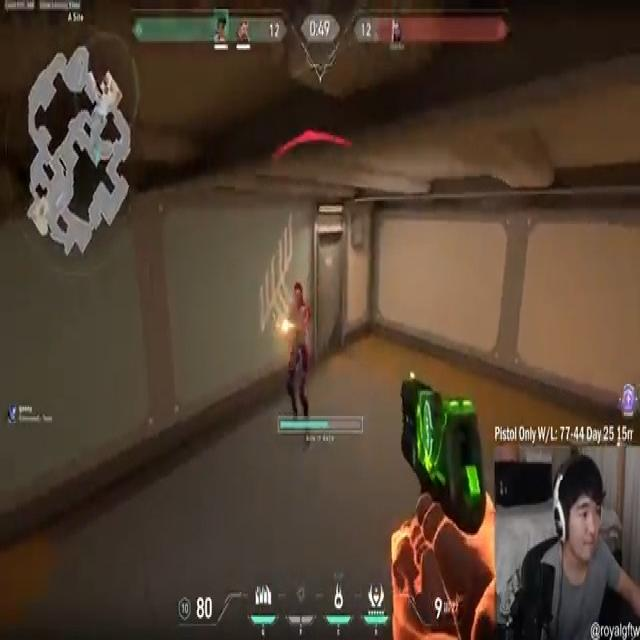enemy: (284, 278, 315, 418)
